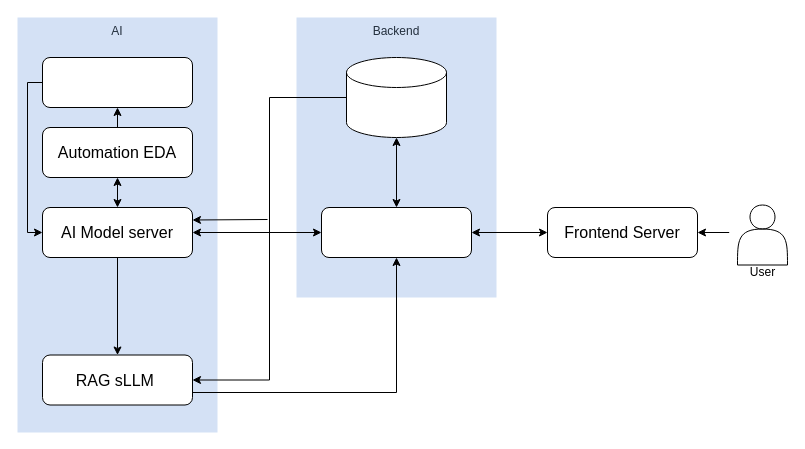
Some shapes in this 805 by 449 pixel diagram are drawn without their labels. Each missing label, with the centre of its shape:
"Backend Server" belongs at (x=396, y=232).
"Database (mysql)" belongs at (x=396, y=97).
"Deep Learning Predict" belongs at (x=117, y=82).
